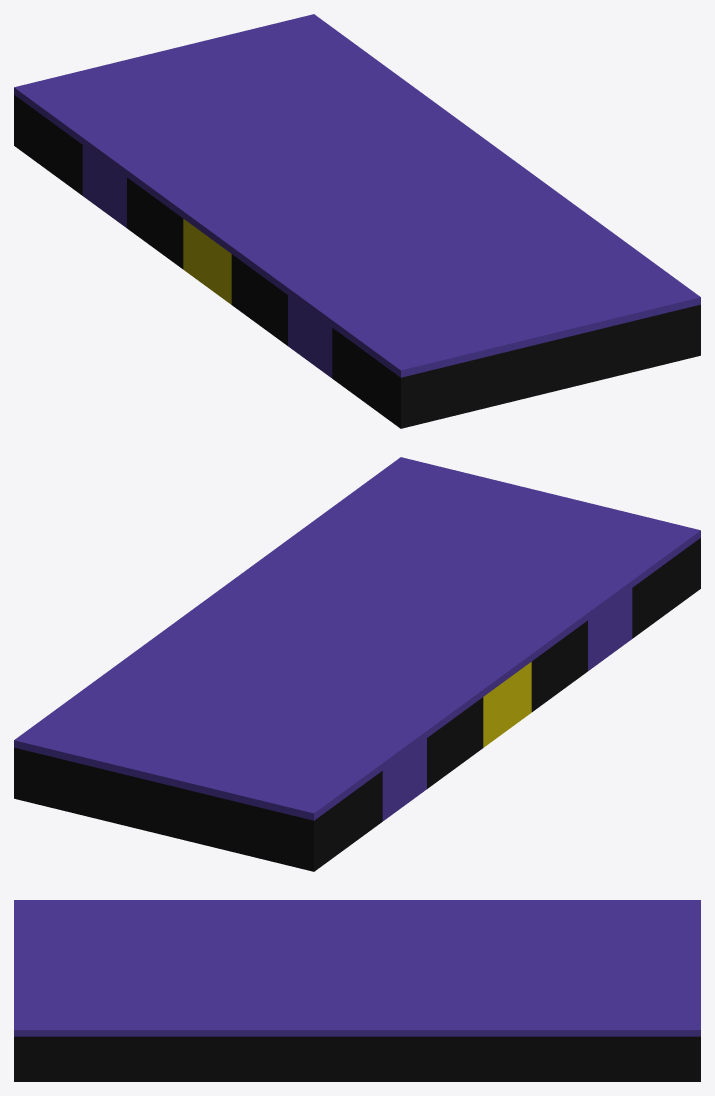
The model's file is noobioriginal-7.obj.
3 renders of one model, top to bottom at view 1: azimuth 30°, elevation 25°; view 2: azimuth 150°, elevation 25°; view 3: azimuth 270°, elevation 25°, orthographic. The views are drawn at different scales.
Bounding box in the file's own units: 4.3 × 0.8 × 9.6.
1 material, 1 textured.
